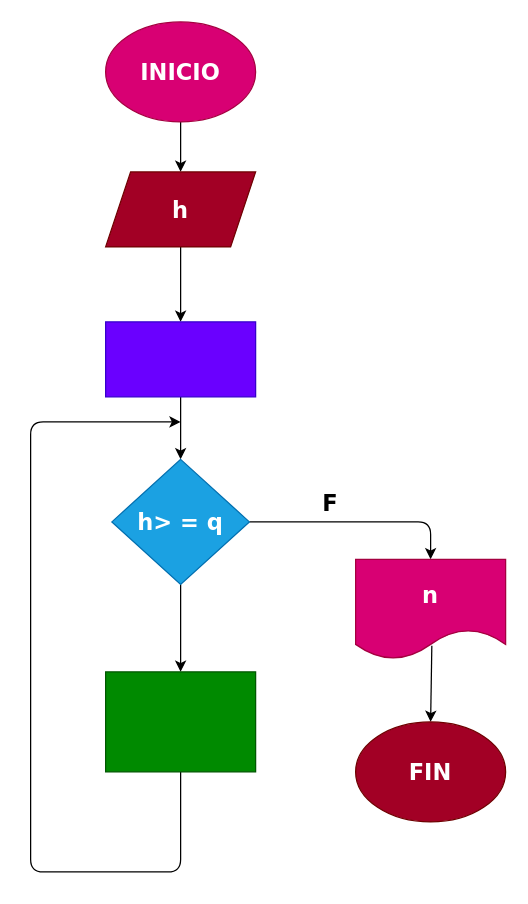
Some shapes in this 528 by 904 pixel diagram are drawn without their labels. Each missing label, with the centre of its shape:
"h= 0.9 h n= n+1" belongs at pixel 180 721.
"q = h/5 n = 0" belongs at pixel 180 359.
